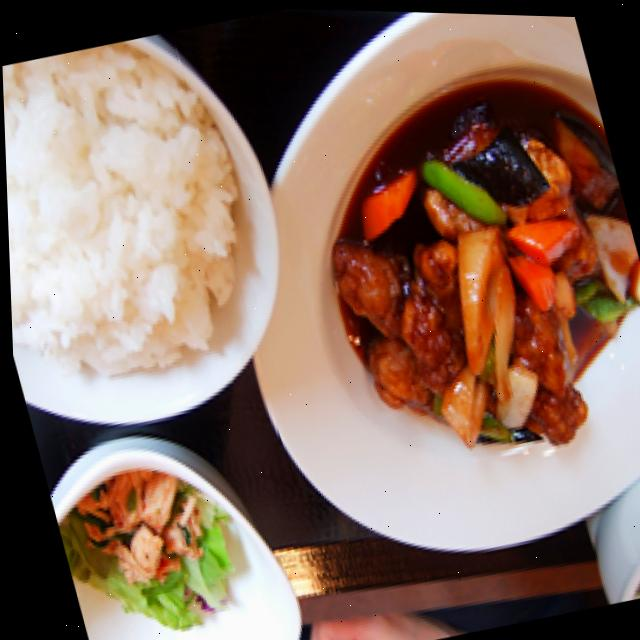汤锅炖物: (602, 503, 640, 597)
猪肉菜式: (279, 46, 640, 491)
米饭主食: (0, 13, 323, 450)
